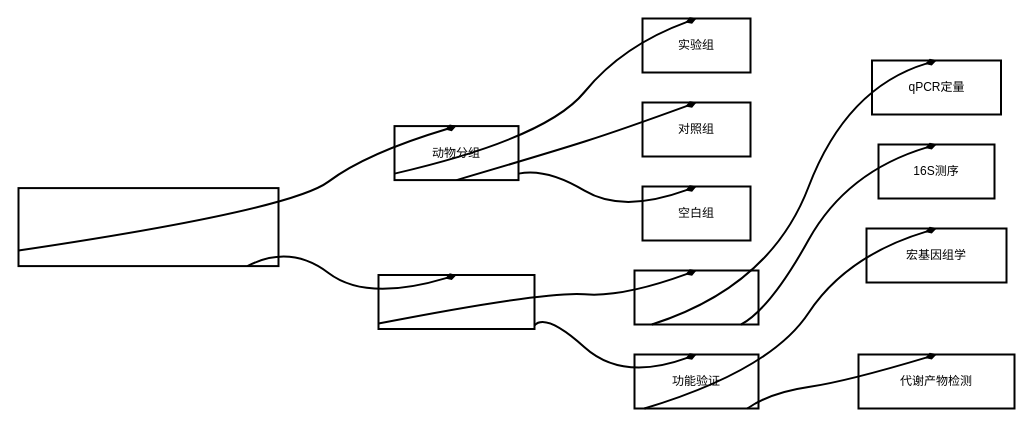
This 1032x427 diagram has some shape labels left out. Each missing label, with the centre of its shape:
人源菌群-C57BL/6小鼠模型构建与验证: point 148,227
动态监测: point 696,297
菌群定植验证: point 456,302
